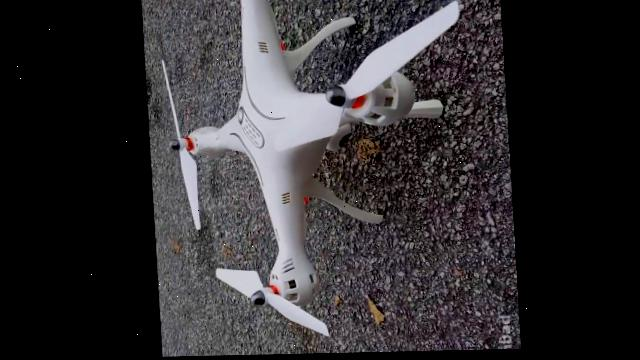drone: (154, 0, 477, 343)
